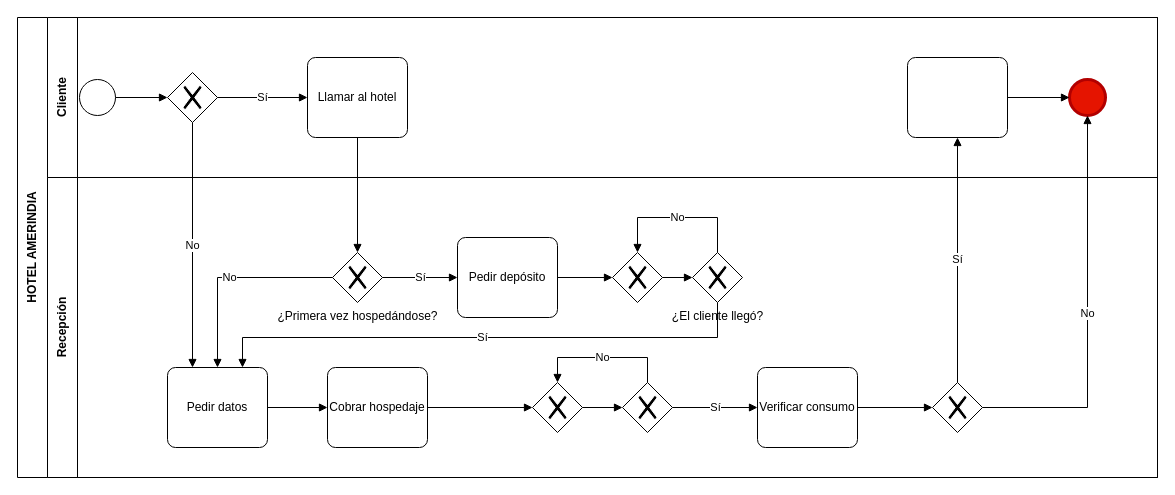
Some shapes in this 1175 by 495 pixel diagram are drawn without their labels. The shapes that lost their labels are listed below. From the top down, each one's box as (x1, y1, x2, y2) in pixels, then its label:
(78, 78, 116, 116): Inicio
(166, 72, 218, 122): ¿Es una reserva?
(906, 56, 1008, 138): Pagar consumo
(622, 382, 672, 432): ¿La habitación está lista?
(932, 382, 982, 432): ¿Hubo consumo?
